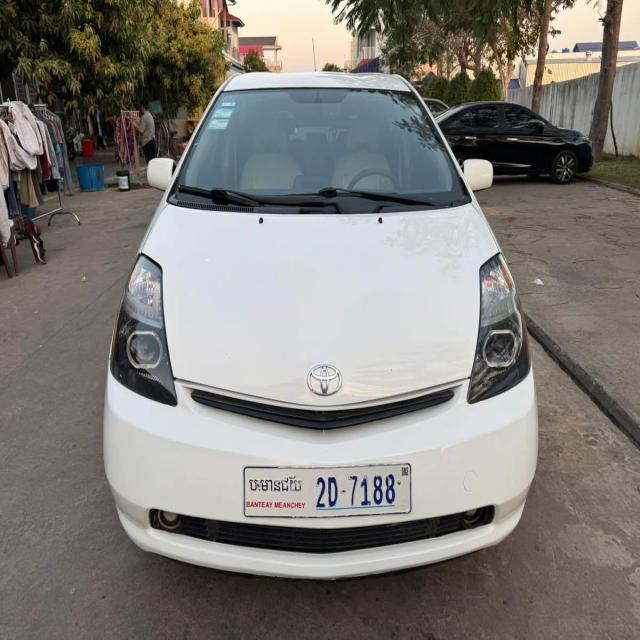Banteay_Meanchey: (249, 473, 304, 498)
